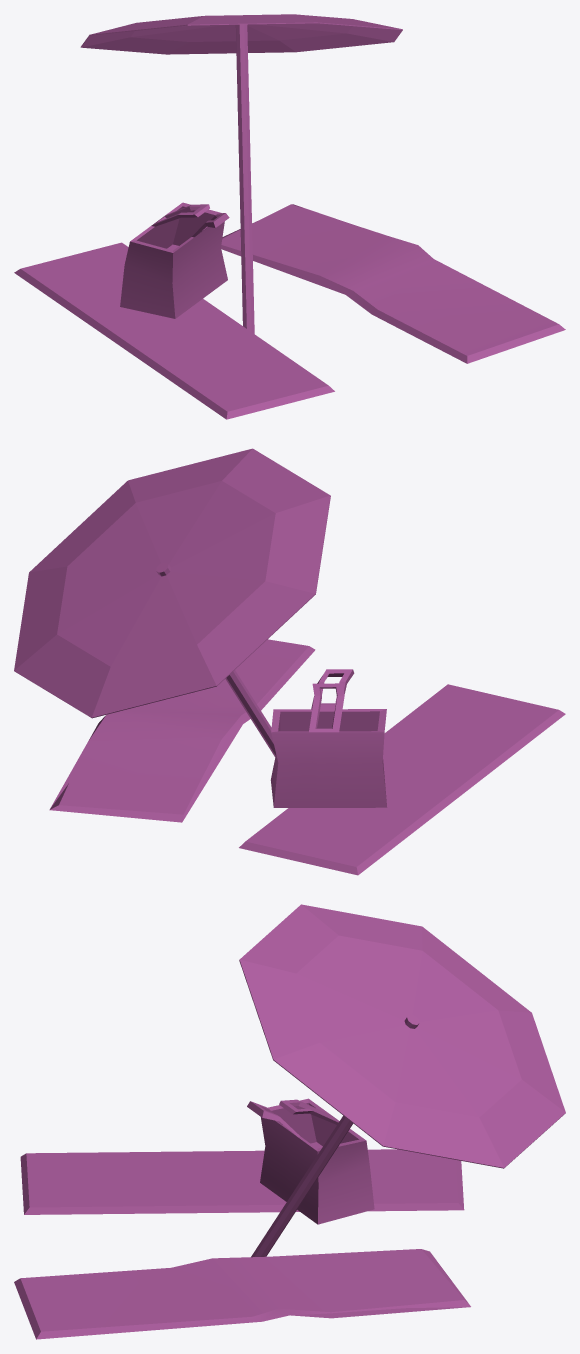
The model's file is beachItemsFBX.fbx.
The picture shows the model from 3 angles, top to bottom: view 1: azimuth 30°, elevation 25°; view 2: azimuth 150°, elevation 25°; view 3: azimuth 270°, elevation 25°; orthographic projection. The views are drawn at different scales.
Parts seen in each view (by area): view 1: beach; view 2: beach; view 3: beach.
Part boxes in pixels (x1,y1,x2,y2): beach: (14, 14, 565, 419); beach: (14, 448, 565, 875); beach: (14, 904, 565, 1339).
Size of the model in its own units: 3.86 by 3.52 by 4.8.
